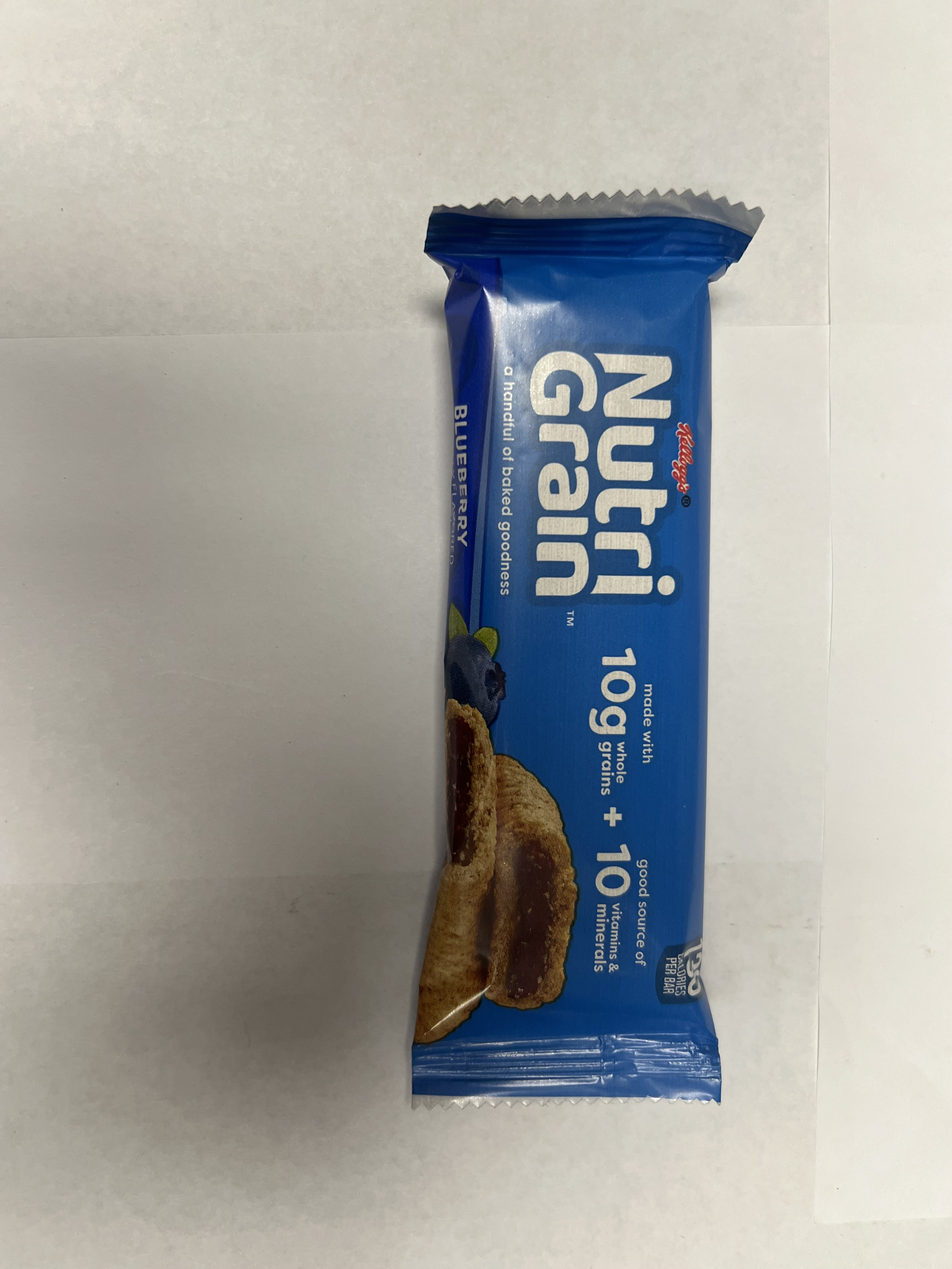packaged: (416, 188, 762, 1112)
